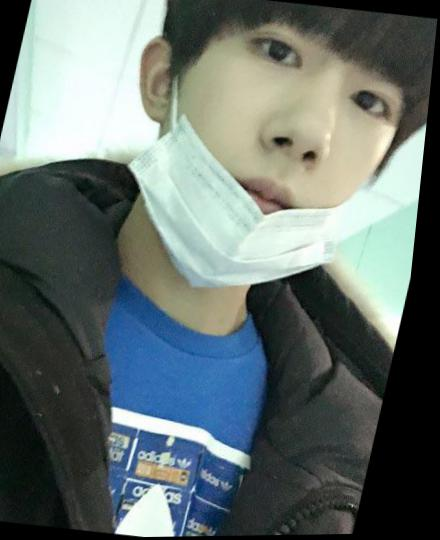WRONG: (130, 11, 434, 296)
